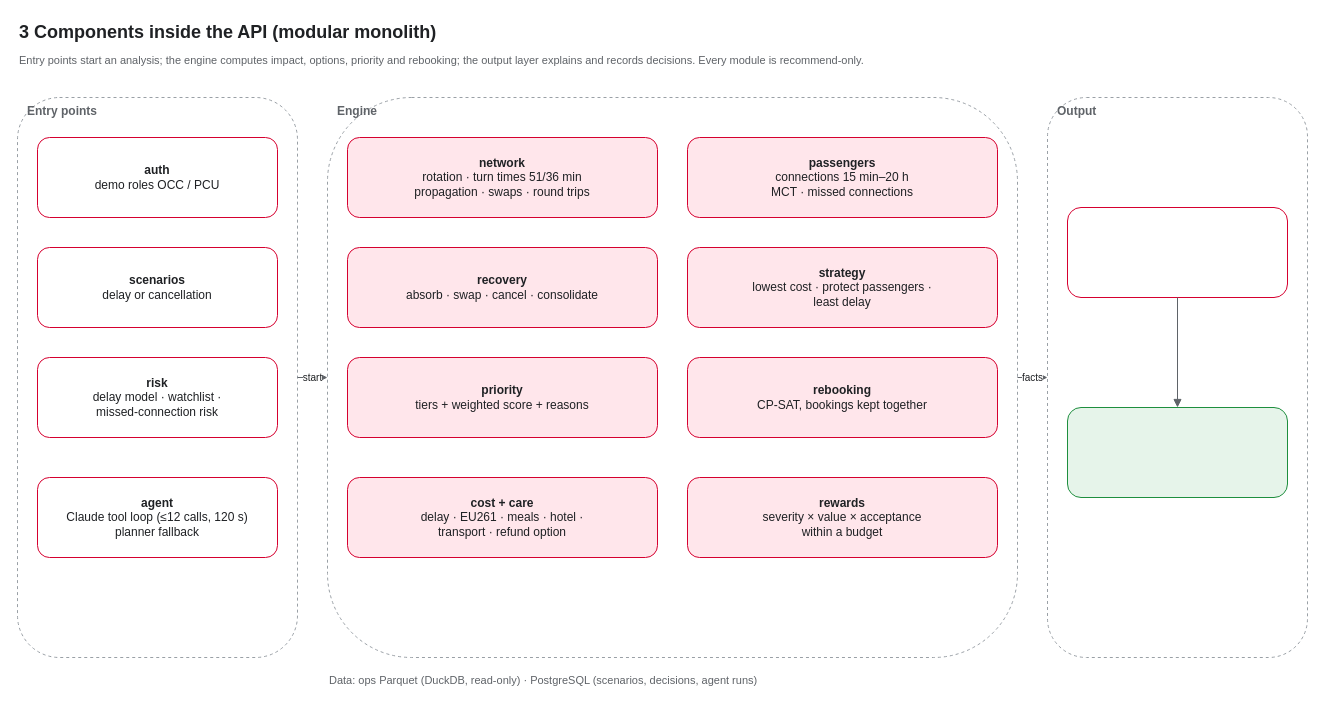
This 1325x709 diagram has some shape labels left out. The shapes that lost their labels are listed below. From the top down, each one's centre as x and y in pixels, then its label:
point 1177,252: explain Claude or templates narrative · message drafts
point 1177,452: decisions approve · reject · override audit trail
